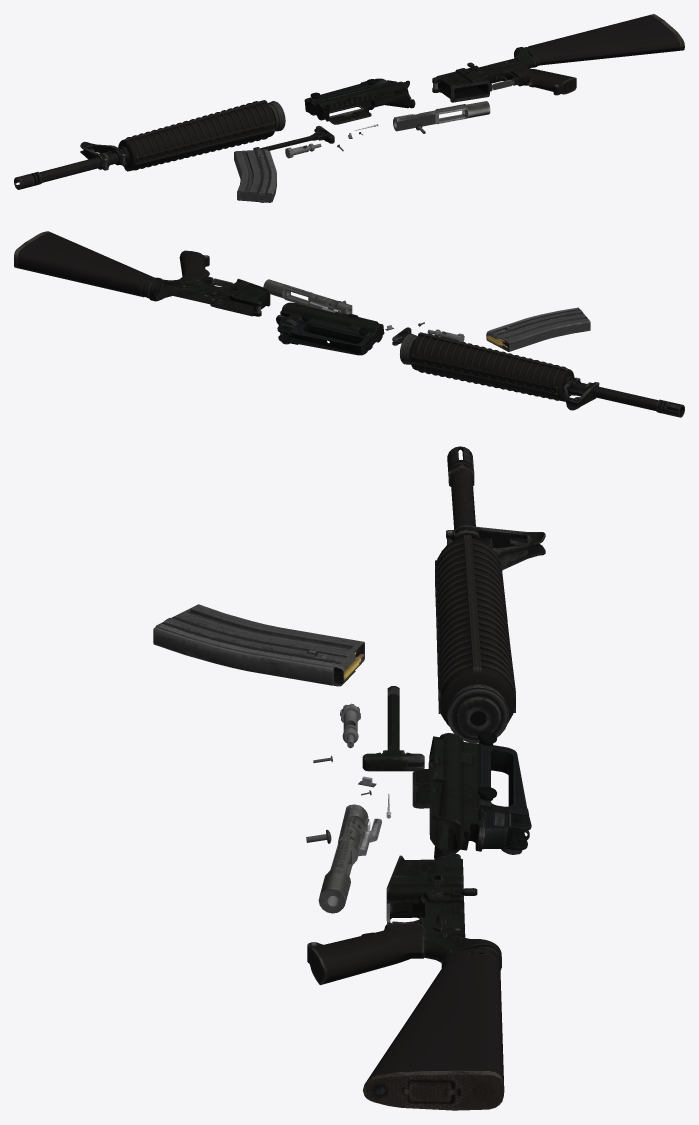
Rendered from M16A4Asesembled.fbx.
3 views of the same model, one above another, from view 1: azimuth 30°, elevation 25°; view 2: azimuth 150°, elevation 25°; view 3: azimuth 270°, elevation 25° (orthographic). The views are drawn at different scales.
Visible parts, largest first — view 1: Stock.001, UpperReceiver.001, CarryHandle.001, Mag.001, BoltGroup.001, ChargingHandle.001; view 2: Stock.001, UpperReceiver.001, CarryHandle.001, Mag.001, BoltGroup.001; view 3: Stock.001, UpperReceiver.001, CarryHandle.001, Mag.001, BoltGroup.001, ChargingHandle.001.
Part boxes in pixels (x1,y1,x2,y2): Stock.001: (432,14,684,102); UpperReceiver.001: (14,100,285,189); CarryHandle.001: (304,78,415,124); Mag.001: (234,149,276,202); BoltGroup.001: (393,101,490,131); ChargingHandle.001: (253,125,334,150); Stock.001: (14,231,270,316); UpperReceiver.001: (399,332,684,417); CarryHandle.001: (276,302,384,355); Mag.001: (486,307,590,351); BoltGroup.001: (263,279,352,314); Stock.001: (307,853,504,1110); UpperReceiver.001: (435,446,545,743); CarryHandle.001: (412,731,531,859); Mag.001: (153,604,364,686); BoltGroup.001: (318,804,381,913); ChargingHandle.001: (362,686,424,771).
Bounding box in the file's own units: 118 × 6.4 × 31.1.
